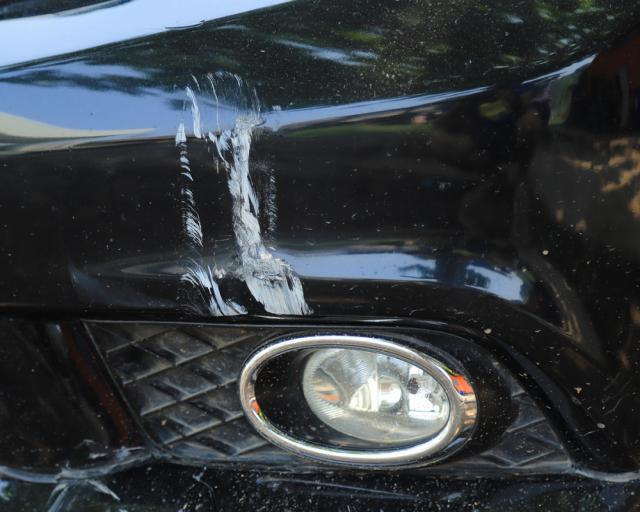scratch: (173, 62, 315, 322)
